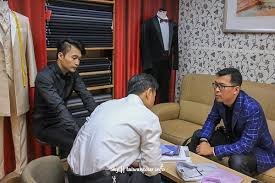F_shirt: (67, 94, 161, 176)
